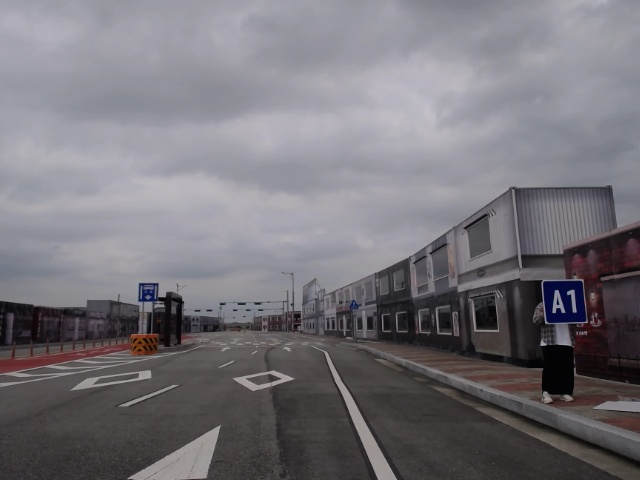delivery_a1: (541, 280, 588, 324)
